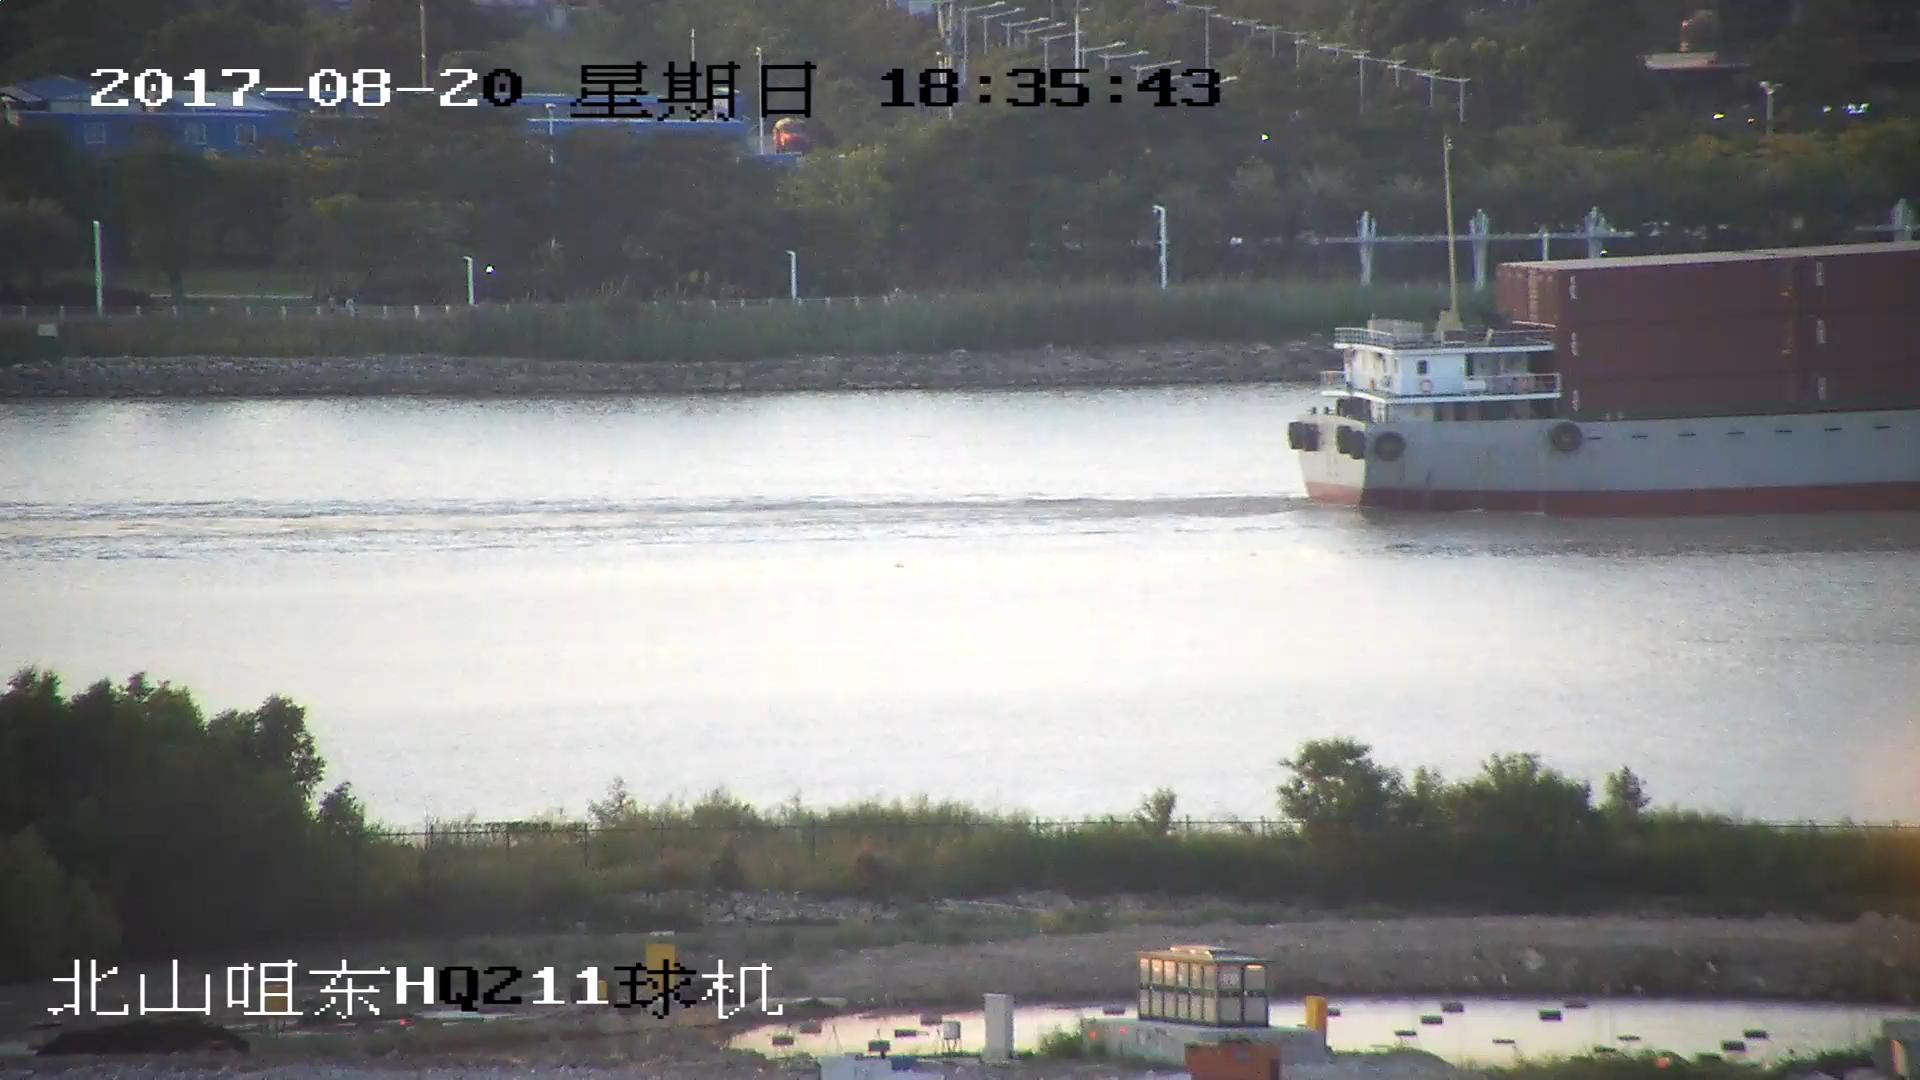Ship: (1283, 244, 1920, 516)
